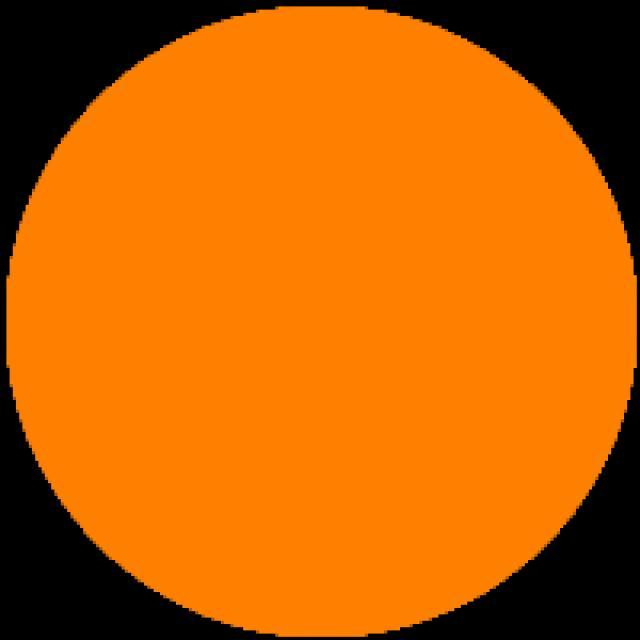Circle: (8, 8, 636, 634)
